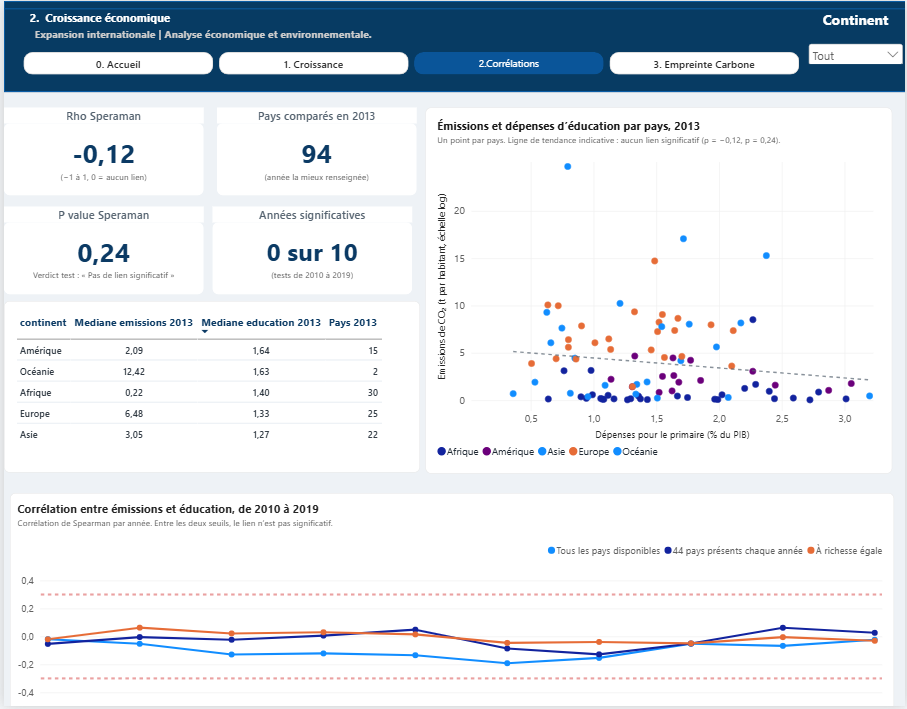

Layout of this report page (visuals, bound fields, positions):
{"tool":"powerbi","page":{"name":"2.Corrélations","canvas":[1280,1000],"ordinal":2},"visuals":[{"type":"shape","box":[0,0,1400,118.3],"z":0},{"type":"shape","box":[0,10,1400,118.3],"z":1000},{"type":"textbox","box":[24,12,500,40],"z":2000},{"type":"textbox","box":[23.3,36.7,600,22],"z":3000},{"type":"group","id":"g1","title":"Groupe 2","box":[1136.7,13.3,143.3,76.7],"z":4000},{"type":"pageNavigator","box":[28,73,1100,32],"z":5000},{"type":"scatterChart","title":"Émissions et dépenses d’éducation par pays, 2013","fields":{"Category":["correlation_pays_2013 (2).nom_pays"],"Series":["correlation_pays_2013 (2).continent"],"X":["Sum(correlation_pays_2013 (2).depenses_education_pct_pib)"],"Y":["Sum(correlation_pays_2013 (2).emissions_t_hab)"]},"box":[597.9,151.1,680.9,517],"z":6000},{"type":"tableEx","fields":{"Values":["dim_pays.continent","correlation_pays_2013 (2).Mediane emissions 2013","correlation_pays_2013 (2).Mediane education 2013","correlation_pays_2013 (2).Pays 2013"]},"box":[0,426,590,243],"z":7000},{"type":"lineChart","title":"Corrélation entre émissions et éducation, de 2010 à 2019","fields":{"Category":["correlation_par_annee.annee"],"Y":["Sum(correlation_par_annee.rho)","Sum(correlation_par_annee.rho_constant)","Sum(correlation_par_annee.rho_partiel)"]},"box":[0,683,1278.7,317],"z":8000},{"type":"cardVisual","title":"Rho Spearman","fields":{"Data":["tests_correlation.Rho Spearman"]},"box":[0,150,283,125],"z":9000},{"type":"cardVisual","title":"Pays comparés en 2013\t","fields":{"Data":["tests_correlation.Pays analyses"]},"box":[301.9,150.2,283,125],"z":10000},{"type":"cardVisual","title":"P value Spearman","fields":{"Data":["tests_correlation.P value Spearman"]},"box":[0,290.9,283.1,125.1],"z":11000},{"type":"slicer","title":"Continent","fields":{"Values":["dim_pays.continent"]},"box":[1136.7,13.3,143.3,76.7],"z":11002,"group":"g1"},{"type":"cardVisual","title":"Années significatives","fields":{"Data":["correlation_par_annee.Annees significatives"]},"box":[295.7,291.5,289.4,125.5],"z":12000}]}

Visuals, with their boxes in screenshot pixels (x1, y1, x2, y2), scaled from the page's 1280x1000 canvas onto the 907x709 screenshot:
shape: x1=0, y1=0, x2=906, y2=84
shape: x1=0, y1=7, x2=906, y2=91
textbox: x1=17, y1=9, x2=371, y2=37
textbox: x1=17, y1=26, x2=442, y2=42
"Groupe 2" group: x1=805, y1=9, x2=906, y2=64
pageNavigator: x1=20, y1=52, x2=799, y2=74
"Émissions et dépenses d’éducation par pays, 2013" scatterChart: x1=424, y1=107, x2=906, y2=474
tableEx - dim_pays.continent x correlation_pays_2013 (2).Mediane emissions 2013: x1=0, y1=302, x2=418, y2=474
"Corrélation entre émissions et éducation, de 2010 à 2019" lineChart: x1=0, y1=484, x2=906, y2=708
"Rho Spearman" cardVisual: x1=0, y1=106, x2=201, y2=195
"Pays comparés en 2013	" cardVisual: x1=214, y1=106, x2=414, y2=195
"P value Spearman" cardVisual: x1=0, y1=206, x2=201, y2=295
"Continent" slicer: x1=805, y1=9, x2=906, y2=64
"Années significatives" cardVisual: x1=210, y1=207, x2=415, y2=296
